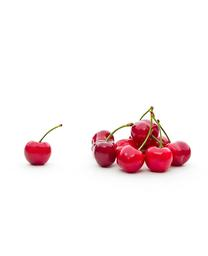cherry: (145, 146, 173, 175), (118, 143, 143, 175), (93, 139, 117, 170), (25, 139, 52, 165), (165, 140, 190, 167), (132, 121, 158, 144), (94, 131, 112, 147)
